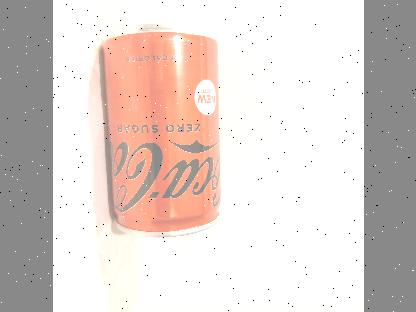Can: (100, 24, 222, 238)
